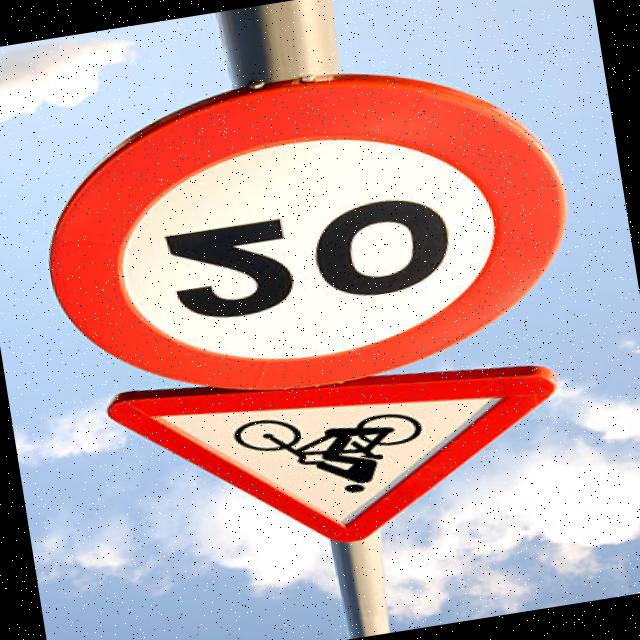speed_limit_20: (17, 49, 606, 428)
